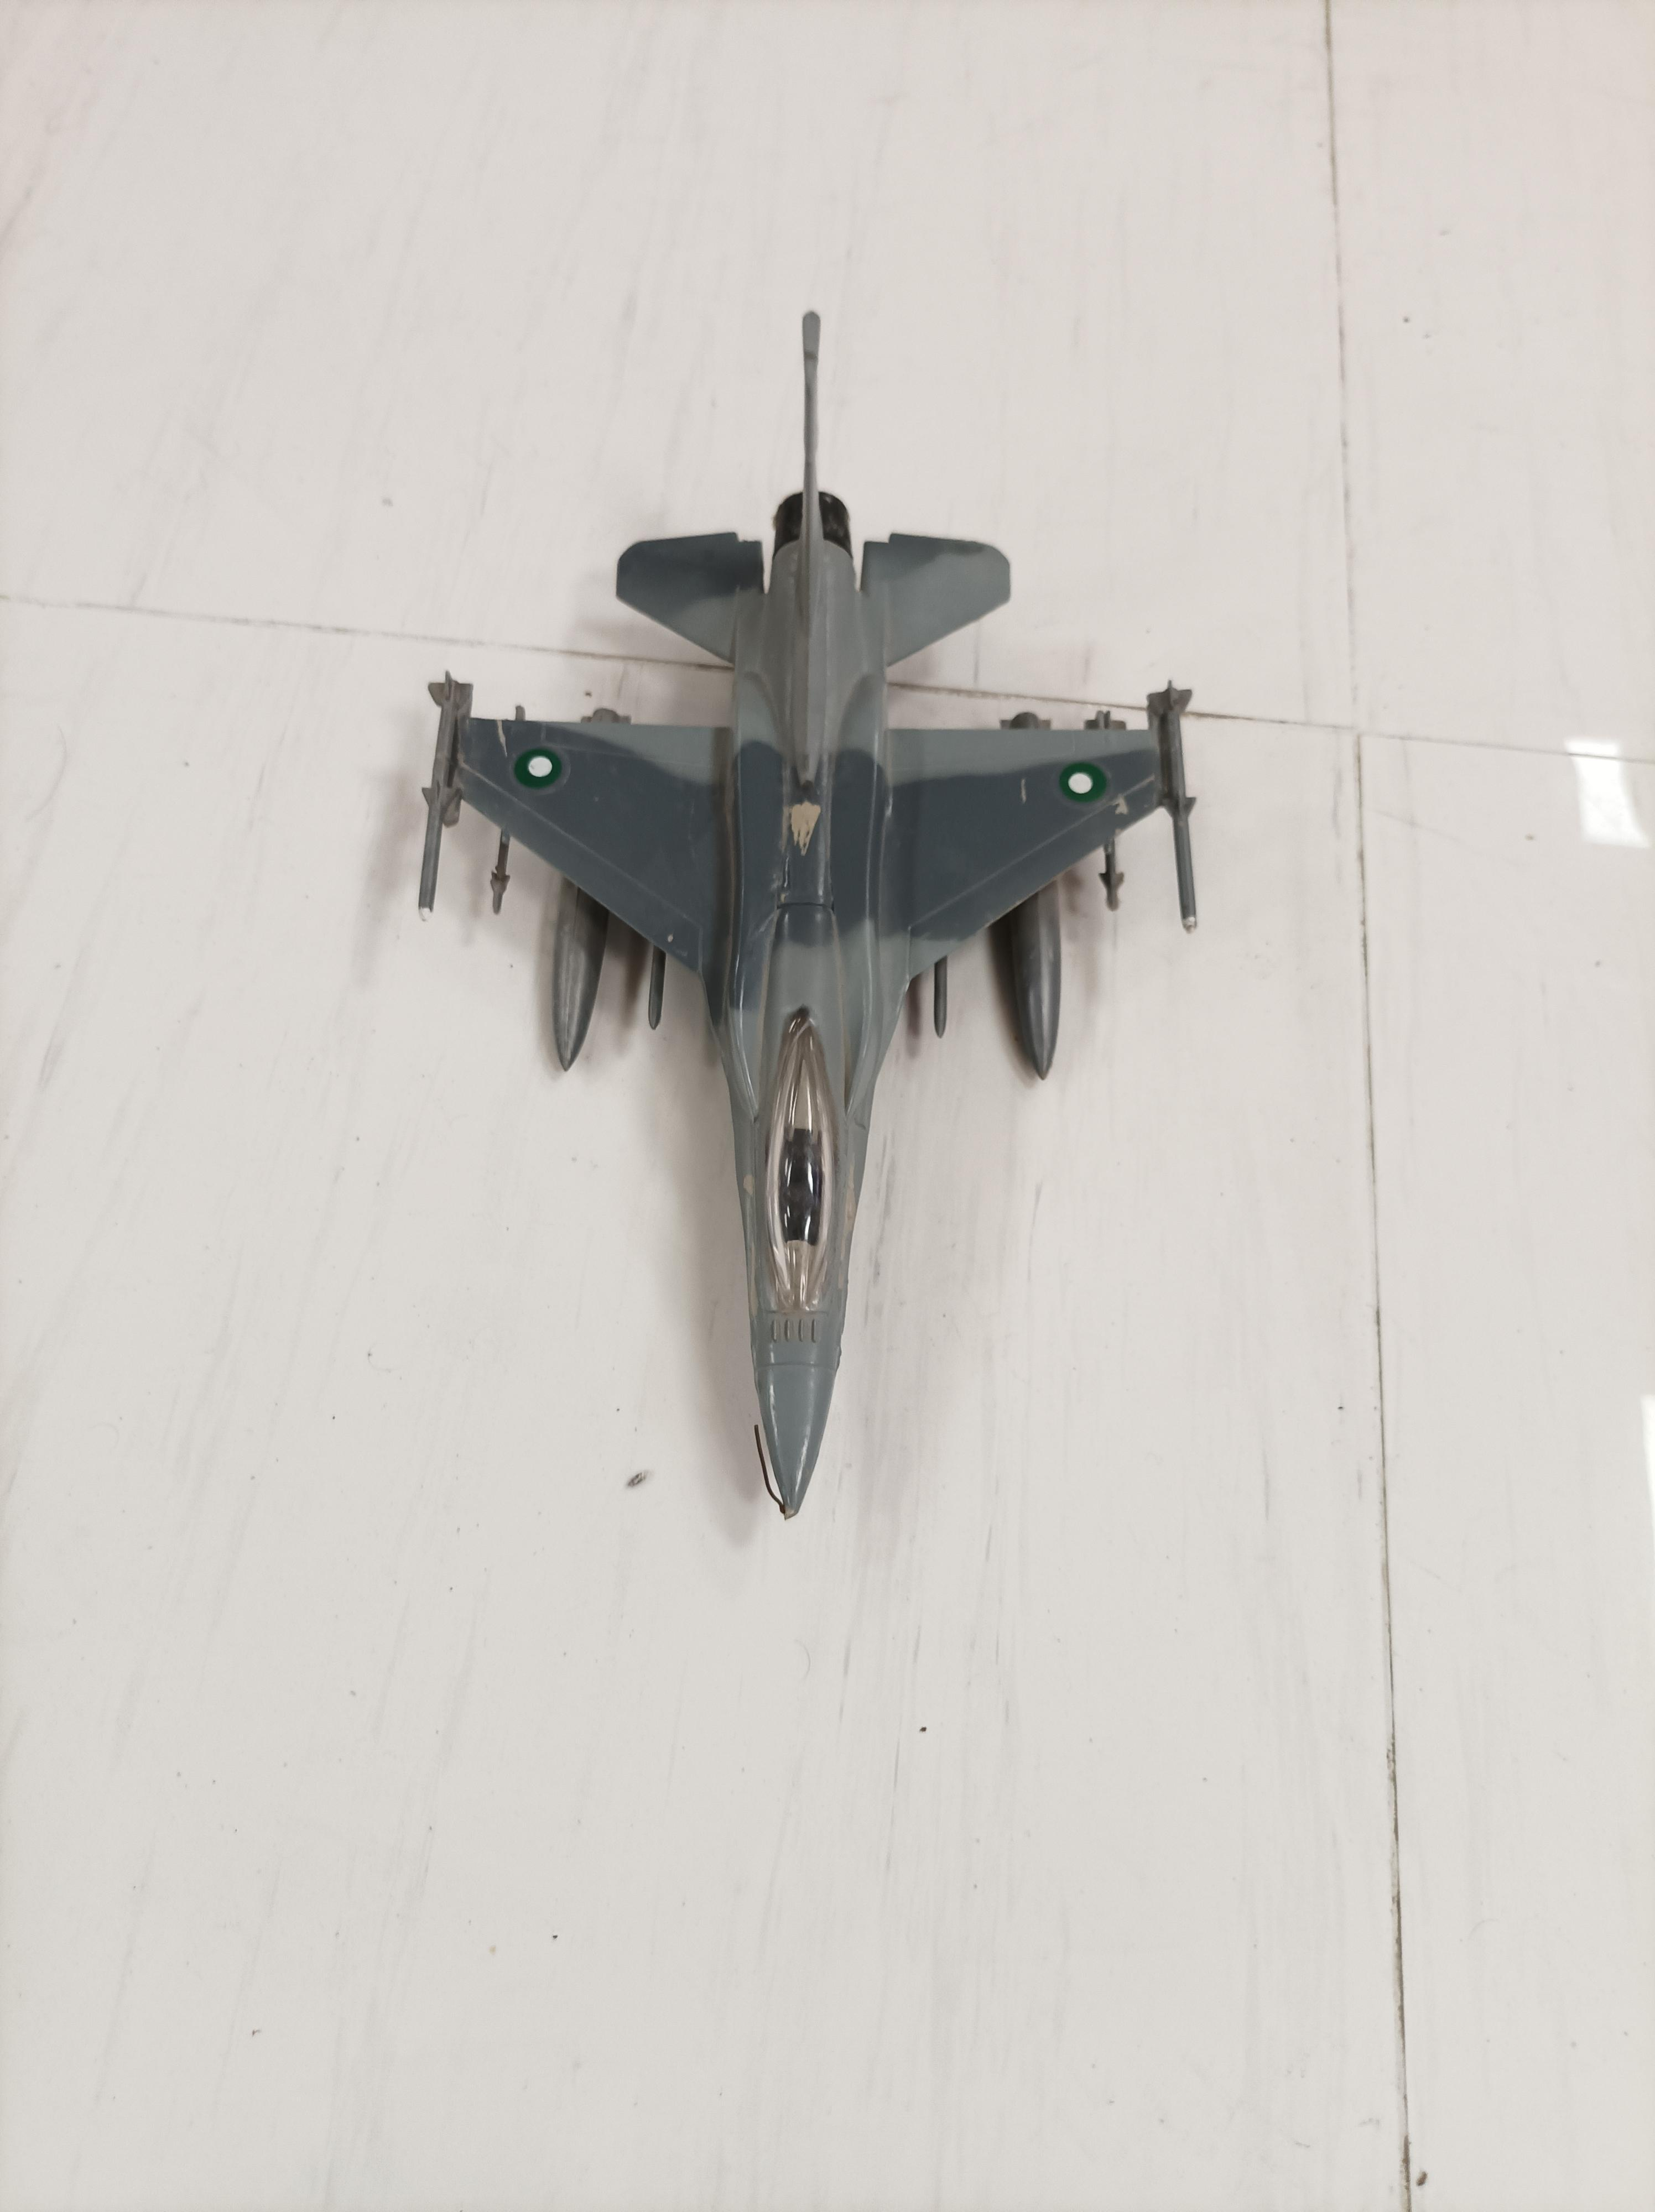Airplane: (389, 304, 1220, 1538)
